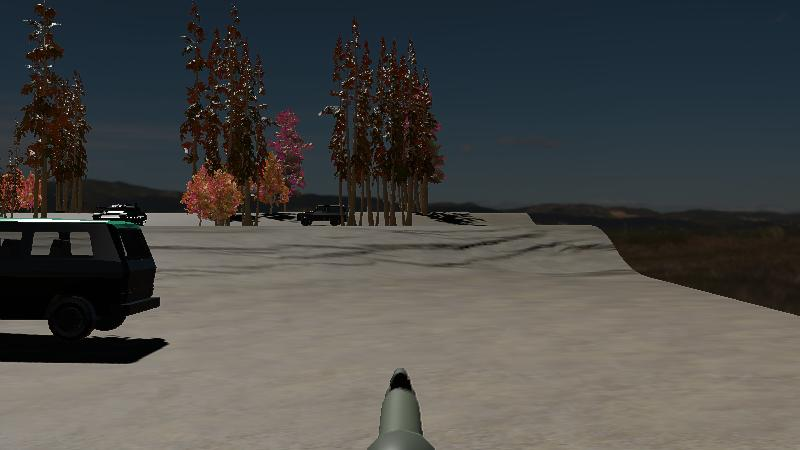Tank: (90, 202, 149, 229)
car: (0, 214, 162, 354), (297, 203, 353, 227)
